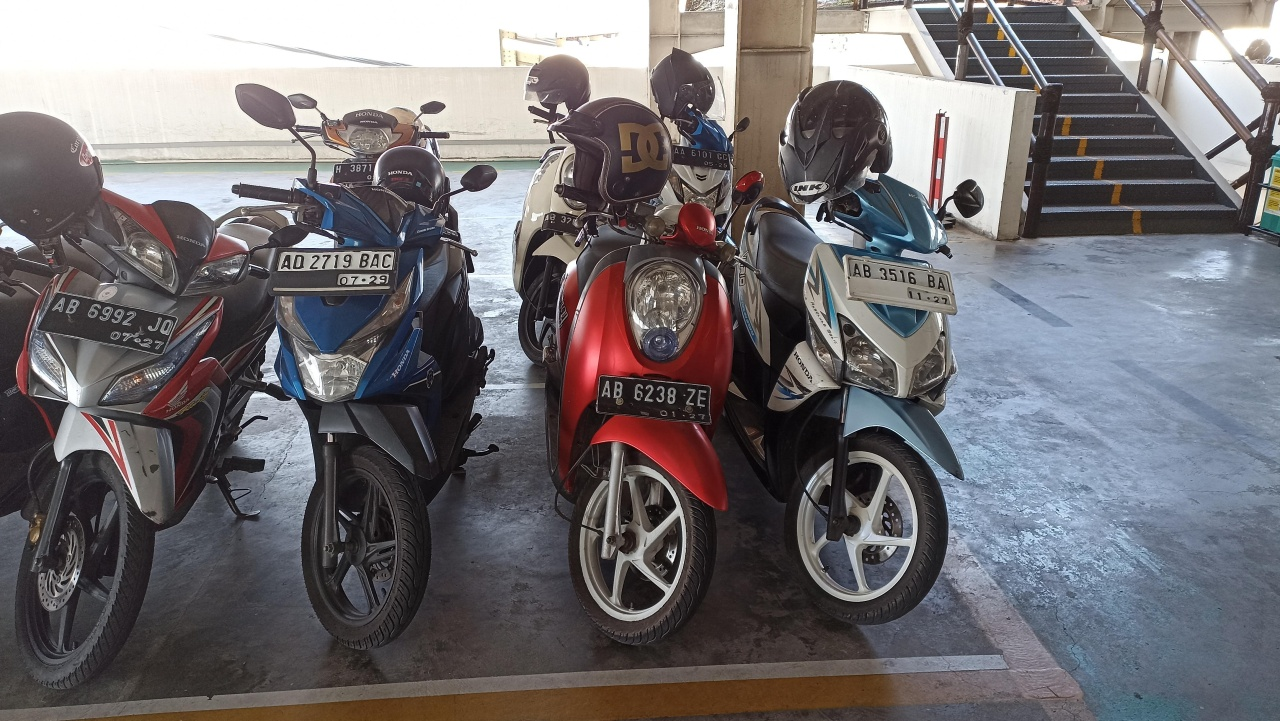plate: (35, 290, 179, 356), (843, 254, 958, 314), (267, 247, 401, 294), (596, 374, 712, 425), (672, 145, 731, 170)
